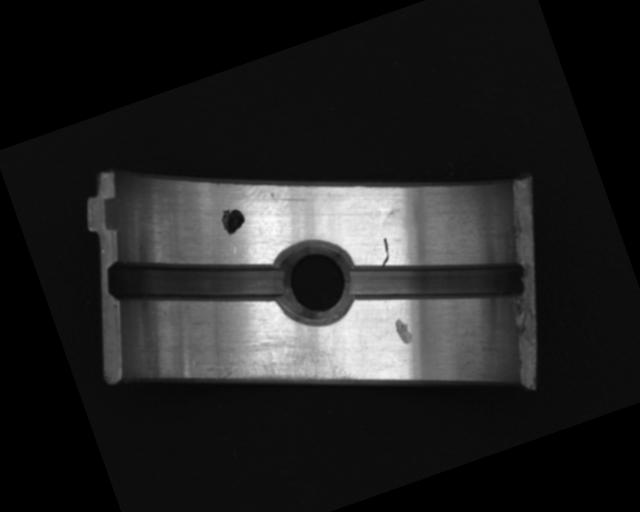blot: (216, 202, 249, 238)
bruise: (391, 314, 415, 348)
gap: (102, 212, 292, 347), (345, 216, 530, 347)
hole: (263, 231, 370, 336)
nick: (373, 236, 395, 267)
scratch: (201, 316, 360, 428)
